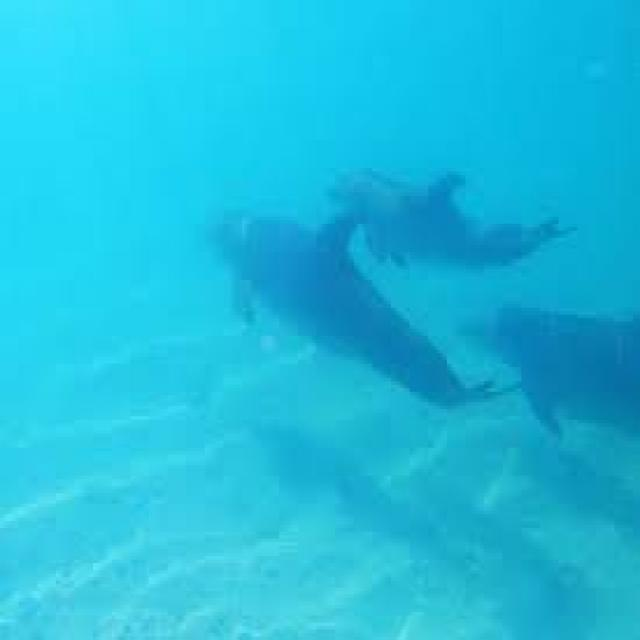dolphin: (200, 188, 500, 466)
